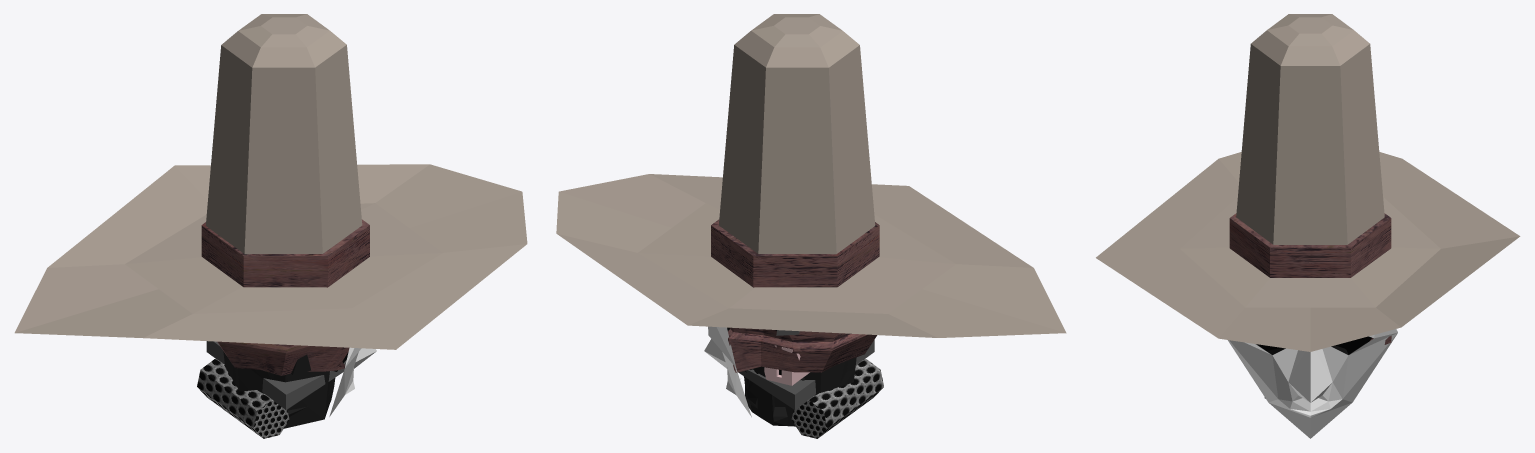
File: bigbossHead.glb
3 views of the same model, side by side, from view 1: azimuth 30°, elevation 25°; view 2: azimuth 150°, elevation 25°; view 3: azimuth 270°, elevation 25° (orthographic). The views are drawn at different scales.
Visible parts, largest first — view 1: Cylinder.003, Cylinder.004, Cylinder.001, Cylinder.002, Cylinder, Cube, Plane; view 2: Cylinder.003, Cylinder.004, Cylinder.002, Cylinder.001, Cylinder, Cube, Plane, EarPiece; view 3: Cylinder.003, Plane, Cylinder.004.
Part boxes in pixels (x1=…): Cylinder.003: x1=14, y1=14, x2=527, y2=349; Cylinder.004: x1=201, y1=219, x2=369, y2=287; Cylinder.001: x1=197, y1=359, x2=289, y2=438; Cylinder.002: x1=217, y1=341, x2=349, y2=375; Cylinder: x1=223, y1=351, x2=335, y2=428; Cube: x1=206, y1=341, x2=346, y2=409; Plane: x1=329, y1=347, x2=376, y2=416; Cylinder.003: x1=556, y1=14, x2=1066, y2=337; Cylinder.004: x1=711, y1=219, x2=879, y2=287; Cylinder.002: x1=728, y1=327, x2=877, y2=372; Cylinder.001: x1=791, y1=359, x2=883, y2=438; Cylinder: x1=744, y1=357, x2=856, y2=426; Cube: x1=738, y1=340, x2=874, y2=409; Plane: x1=704, y1=326, x2=751, y2=417; EarPiece: x1=764, y1=345, x2=809, y2=385; Cylinder.003: x1=1096, y1=14, x2=1520, y2=351; Plane: x1=1228, y1=329, x2=1397, y2=438; Cylinder.004: x1=1229, y1=213, x2=1391, y2=277.
Size of the model in its own units: 6.96 by 5.39 by 5.25.
7 materials, 2 textured.
